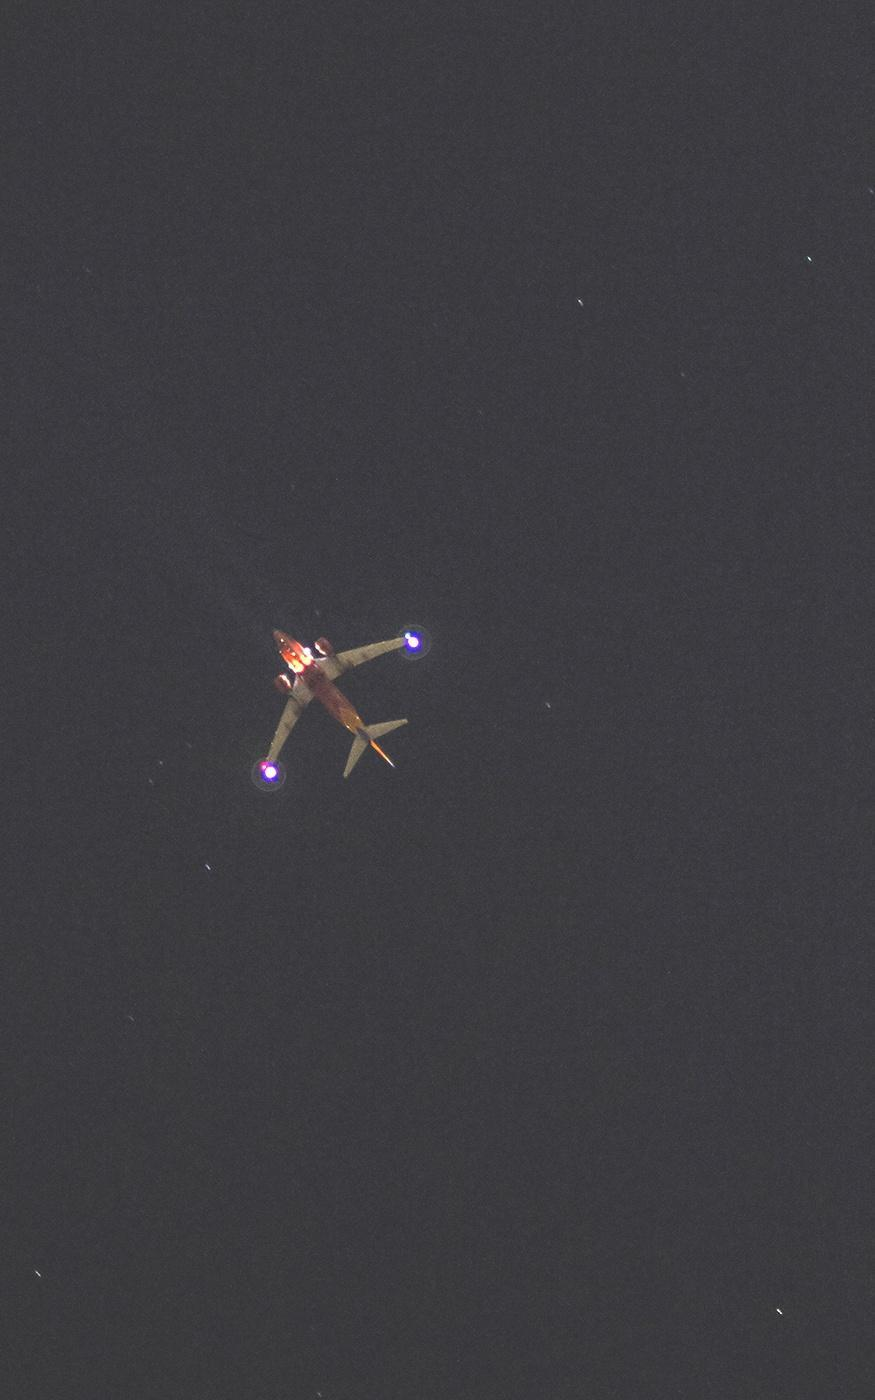Plane: (197, 597, 486, 820)
